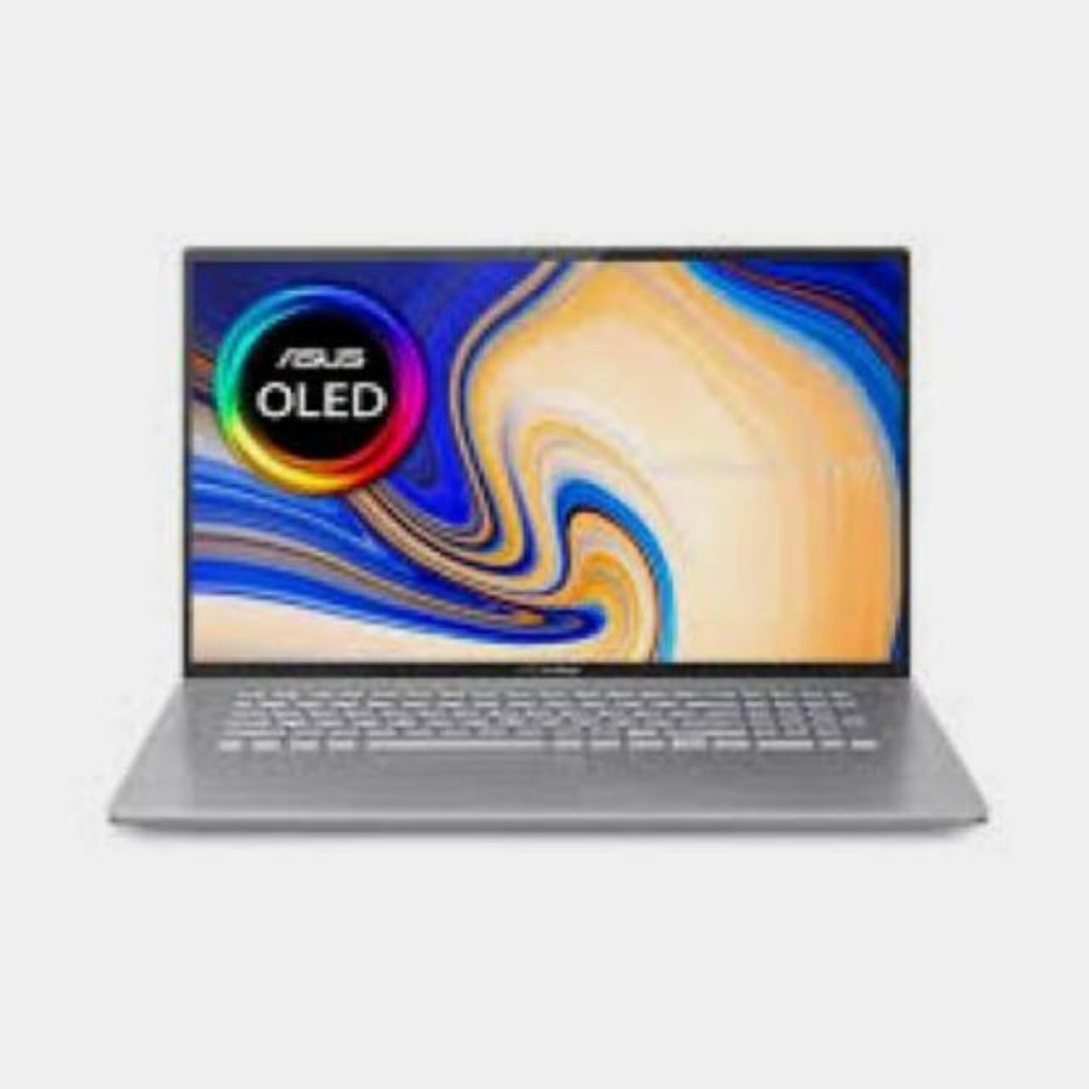laptop: (69, 185, 1013, 897)
